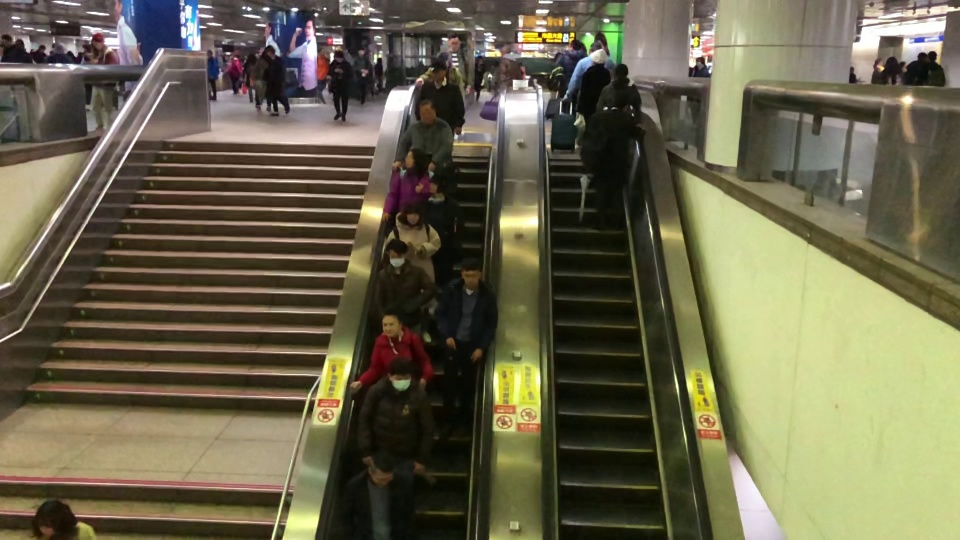person_head: (387, 353, 412, 392), (471, 54, 486, 103), (385, 239, 407, 267), (461, 262, 483, 287), (382, 314, 404, 338), (416, 101, 439, 122), (429, 175, 450, 194), (405, 202, 424, 223), (423, 159, 442, 177), (430, 65, 446, 81), (91, 32, 106, 47), (602, 94, 617, 109), (594, 31, 609, 45), (612, 63, 628, 76), (589, 41, 605, 54), (438, 51, 452, 65), (405, 148, 419, 162), (449, 37, 460, 53), (569, 39, 583, 51), (886, 56, 899, 68), (334, 50, 345, 63), (694, 57, 707, 67), (266, 45, 277, 56), (1, 34, 14, 42), (14, 38, 24, 47), (477, 54, 485, 65), (928, 50, 937, 59), (916, 51, 927, 58), (247, 54, 257, 61), (502, 45, 512, 52), (874, 59, 884, 66), (555, 51, 561, 62), (37, 44, 46, 51), (358, 48, 365, 56), (206, 49, 215, 55), (899, 61, 906, 67), (319, 48, 325, 54), (231, 54, 238, 59)
person_vbox: (361, 353, 433, 540), (431, 262, 499, 439), (381, 201, 443, 343), (347, 312, 435, 395), (581, 95, 631, 230), (373, 239, 431, 348), (388, 102, 460, 174), (420, 177, 465, 282), (562, 41, 622, 103), (417, 65, 467, 137), (444, 34, 474, 143), (380, 149, 424, 223), (90, 32, 120, 130), (412, 51, 466, 105), (599, 64, 642, 123), (266, 45, 299, 120), (327, 51, 354, 122), (496, 45, 527, 96), (689, 57, 709, 125), (556, 40, 579, 97), (253, 55, 272, 115), (221, 54, 245, 97), (241, 52, 261, 103), (547, 50, 566, 102), (356, 48, 372, 107), (905, 52, 931, 85), (206, 49, 219, 103), (929, 51, 948, 87), (318, 47, 327, 107), (12, 38, 32, 62), (885, 57, 902, 85), (1, 34, 16, 62), (31, 43, 50, 63), (871, 60, 885, 84), (248, 53, 256, 61)
